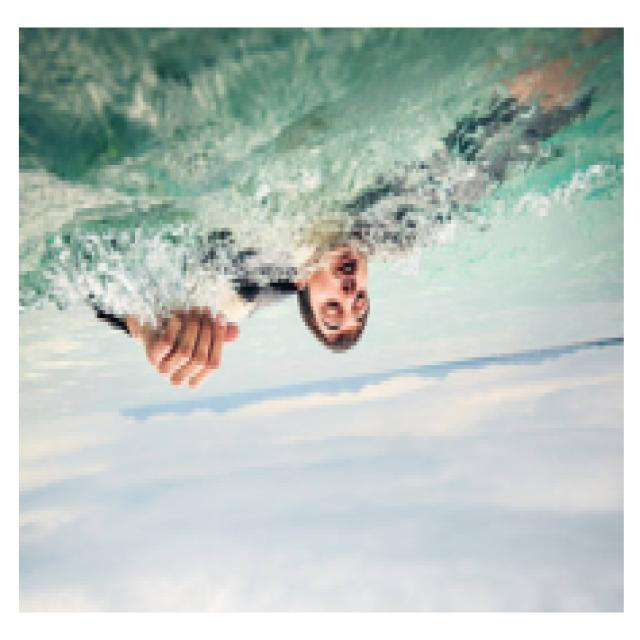Out of Water: (92, 220, 384, 396)
